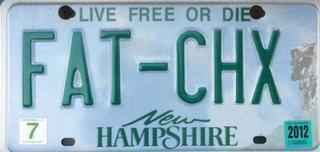placa de veiculo: (8, 1, 312, 148)
